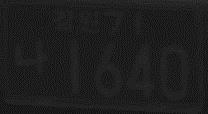0: (160, 44, 189, 102)
1: (62, 39, 87, 93), (130, 11, 149, 32)
4: (128, 43, 156, 95)
6: (92, 44, 122, 95)
7: (102, 10, 127, 36)
강원_O: (50, 8, 99, 34)
나: (13, 40, 55, 76)
